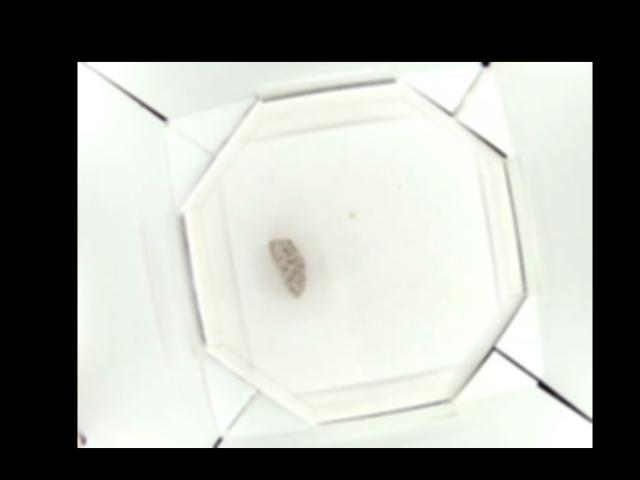China: (269, 240, 306, 296)
